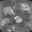people: (3, 6, 15, 16), (1, 17, 12, 27), (14, 16, 22, 24)
